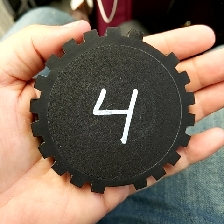gear: (27, 26, 197, 195)
missing: (125, 28, 180, 68), (90, 179, 149, 195)
